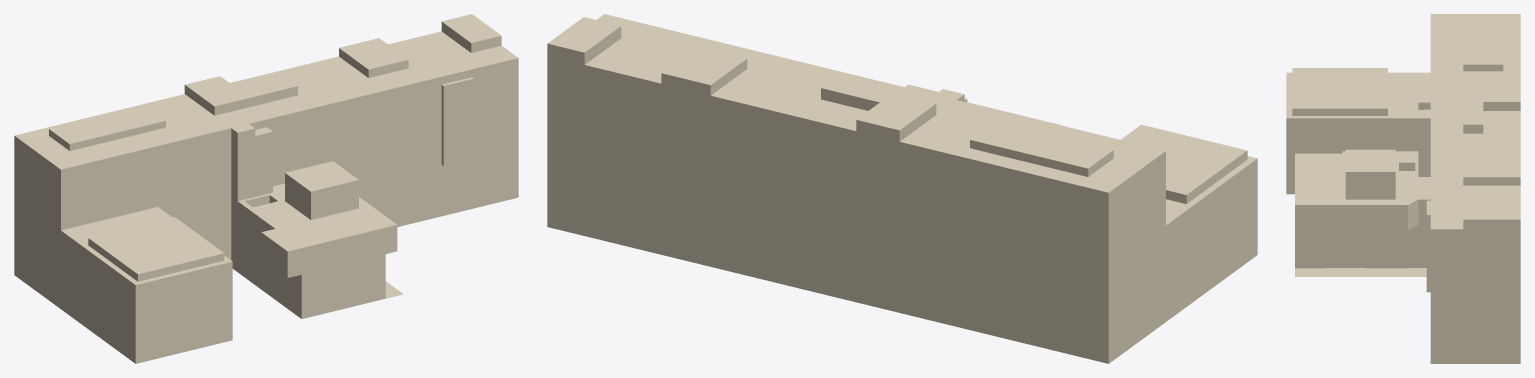
The model's file is SM_ACEX Building.fbx.
3 renders of one model, left to right at view 1: azimuth 30°, elevation 25°; view 2: azimuth 150°, elevation 25°; view 3: azimuth 270°, elevation 25°, orthographic. The views are drawn at different scales.
Visible parts, largest first — view 1: SM_ACEX Building; view 2: SM_ACEX Building; view 3: SM_ACEX Building.
Boxes of the visible parts, bbox=[...] form: SM_ACEX Building: bbox=[14, 14, 518, 363]; SM_ACEX Building: bbox=[547, 14, 1257, 363]; SM_ACEX Building: bbox=[1286, 14, 1520, 363].
Size of the model in its own units: 100 by 31.34 by 46.1.
